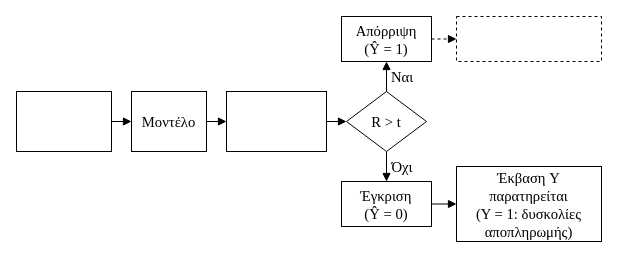
This 618x258 diagram has some shape labels left out. The shapes that lost their labels are listed below. From the top down, each one's centre as x and y in pixels, then its label:
[529,39]: Έκβαση Y δεν παρατηρείται
[64,121]: Μεταβλητές εισόδου X
[276,121]: Βαθμολογία κινδύνου R ∈ [0, 1]
